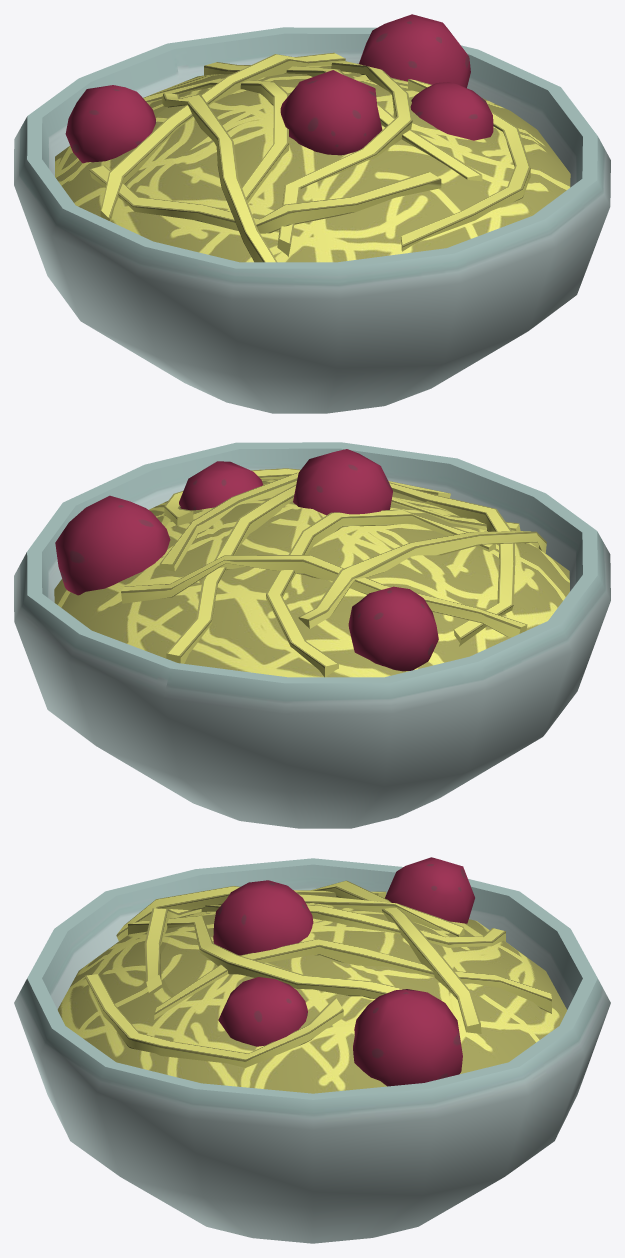
Rendered from Spaghetti.obj.
3 views of the same model, one above another, from view 1: azimuth 30°, elevation 25°; view 2: azimuth 150°, elevation 25°; view 3: azimuth 270°, elevation 25° (orthographic).
Visible parts, largest first — view 1: pCube11; view 2: pCube11; view 3: pCube11.
Boxes of the visible parts, <box> form: pCube11: <box>14,14,610,413</box>; pCube11: <box>14,442,610,828</box>; pCube11: <box>14,857,610,1243</box>.
Bounding box in the file's own units: 1.01 × 0.5498 × 1.01.
